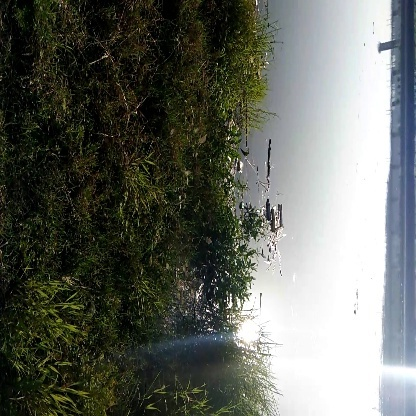grass: (12, 286, 85, 411)
